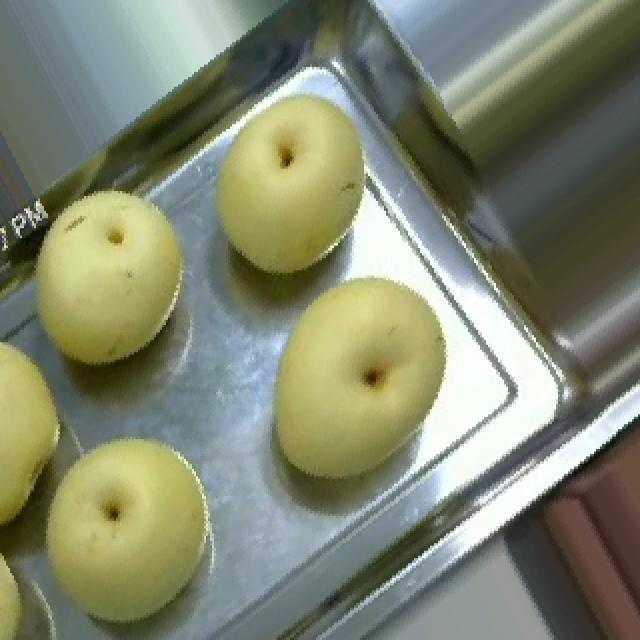Fruit: (2, 397, 234, 640), (256, 246, 474, 501), (2, 164, 210, 394), (190, 72, 394, 293), (514, 392, 640, 640)
